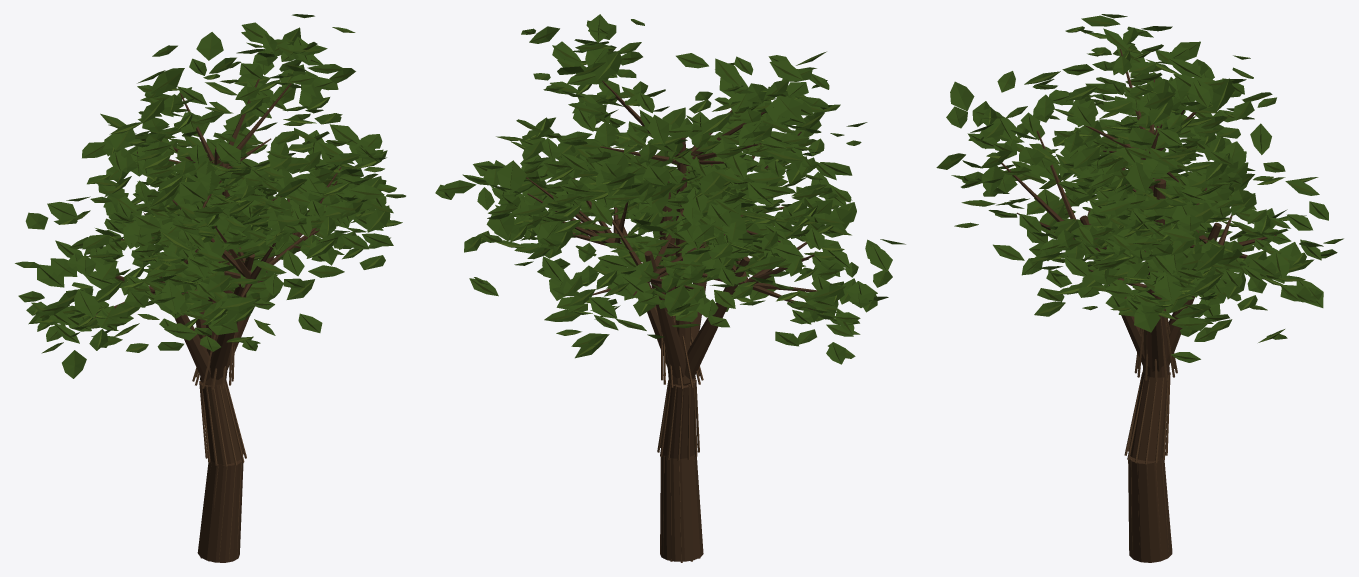
Rendered from orchard_tree_2.dae.
The picture shows the model from 3 angles, left to right: view 1: azimuth 30°, elevation 25°; view 2: azimuth 150°, elevation 25°; view 3: azimuth 270°, elevation 25°; orthographic projection. The views are drawn at different scales.
Parts seen in each view (by area): view 1: Tree (×4); view 2: Tree (×4); view 3: Tree (×4).
Part boxes in pixels (x1,y1,x2,y2): Tree (×4): (15,14,405,562); Tree (×4): (435,14,905,562); Tree (×4): (936,14,1343,562).
Bounding box in the file's own units: 2.88 × 2.6 × 3.71.
